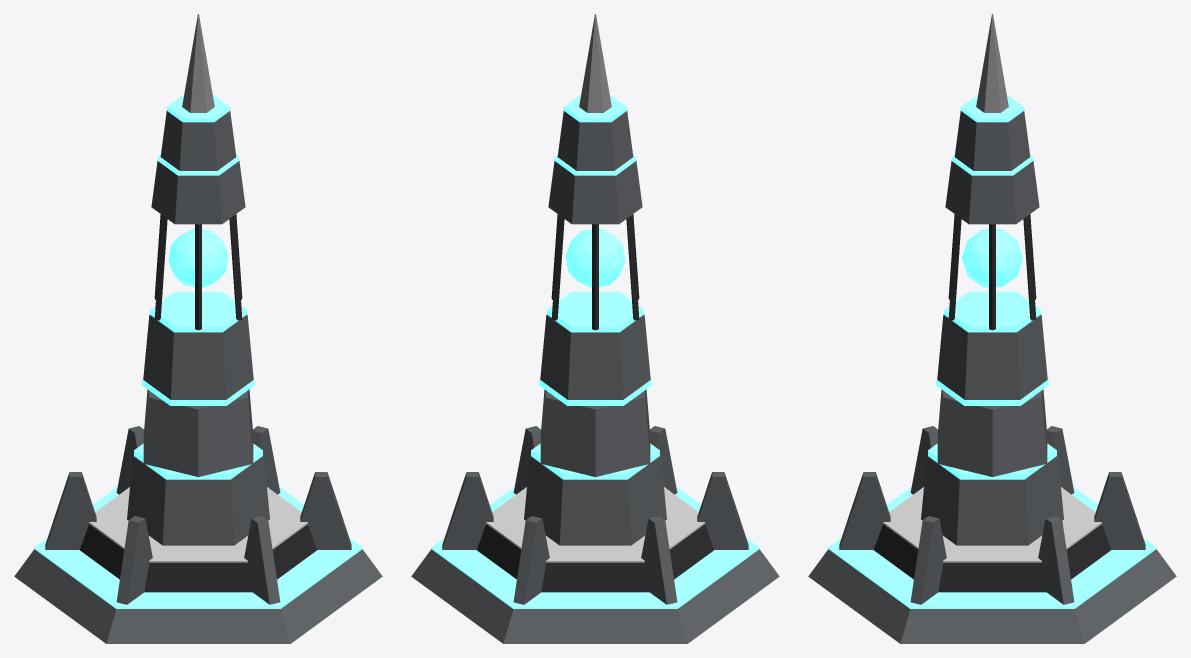
File: ai_city_core.glb
3 renders of one model, left to right at view 1: azimuth 30°, elevation 25°; view 2: azimuth 150°, elevation 25°; view 3: azimuth 270°, elevation 25°, orthographic.
Parts seen in each view (by area): view 1: Body, Core; view 2: Body, Core; view 3: Body, Core.
Boxes of the visible parts, x1,y1,x2,y2 form: Body: (14, 14, 382, 643); Core: (168, 228, 228, 288); Body: (411, 14, 779, 643); Core: (565, 228, 625, 288); Body: (808, 14, 1176, 643); Core: (962, 229, 1022, 287).
Size of the model in its own units: 31.18 by 60.6 by 36.
